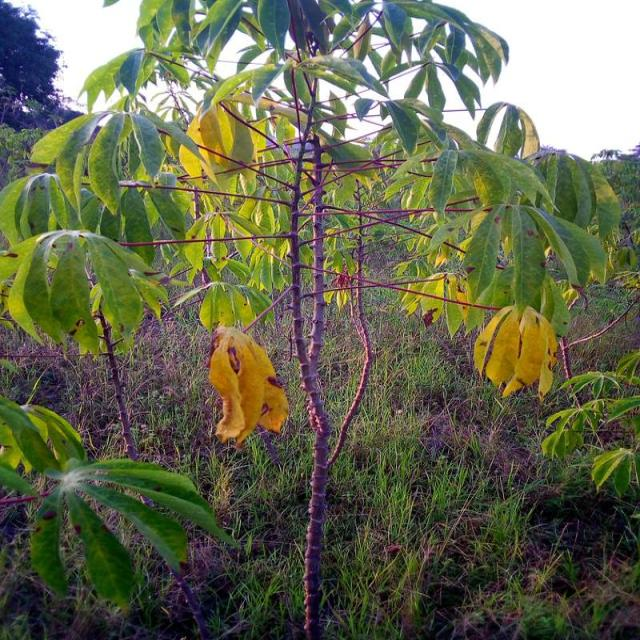cassava leaf: (0, 396, 232, 612), (207, 323, 289, 446), (473, 303, 558, 400), (178, 97, 255, 193)
